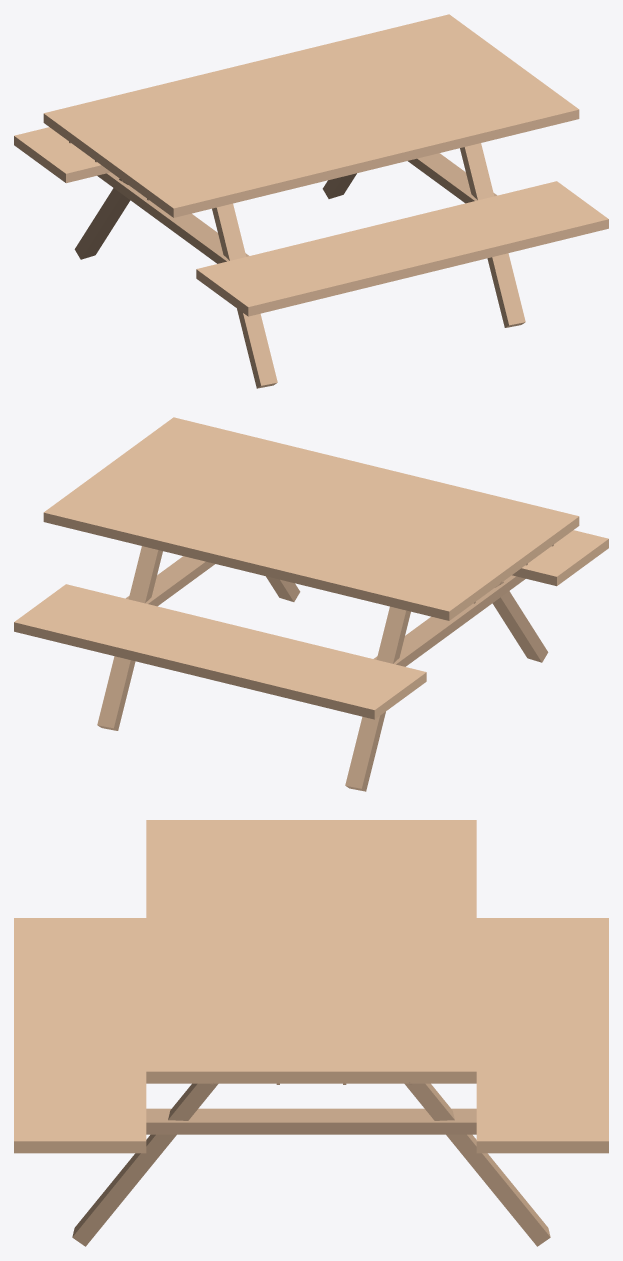
The model's file is picnicTable.glb.
3 views of the same model, one above another, from view 1: azimuth 30°, elevation 25°; view 2: azimuth 150°, elevation 25°; view 3: azimuth 270°, elevation 25° (orthographic). The views are drawn at different scales.
Parts seen in each view (by area): view 1: picnicTable; view 2: picnicTable; view 3: picnicTable.
Part boxes in pixels (left/top/right/bottom): picnicTable: left=14, top=14, right=608, bottom=388; picnicTable: left=14, top=417, right=608, bottom=791; picnicTable: left=14, top=820, right=608, bottom=1246.
Bounding box in the file's own units: 0.9 × 0.3773 × 0.9.
